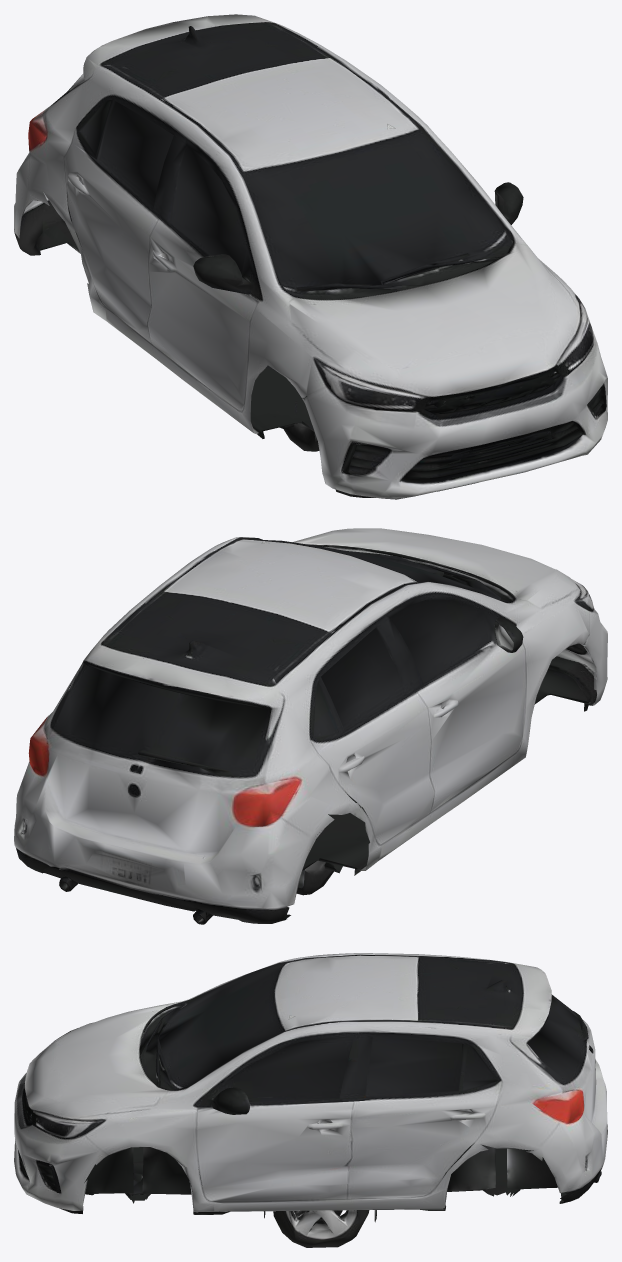
Rendered from civ-hatch.glb.
3 renders of one model, top to bottom at view 1: azimuth 30°, elevation 25°; view 2: azimuth 150°, elevation 25°; view 3: azimuth 270°, elevation 25°, orthographic. The views are drawn at different scales.
Visible parts, largest first — view 1: body, wheel; view 2: body, wheel; view 3: body, wheel.
Part boxes in pixels (left/top/right/bottom): body: left=14, top=14, right=607, bottom=499; wheel: left=279, top=423, right=319, bottom=451; body: left=14, top=528, right=607, bottom=924; wheel: left=296, top=860, right=342, bottom=895; body: left=14, top=953, right=607, bottom=1214; wheel: left=264, top=1210, right=376, bottom=1247.
Size of what is drawn, in the model's own units: 1.98 by 1.96 by 4.
1 material, 1 textured.
